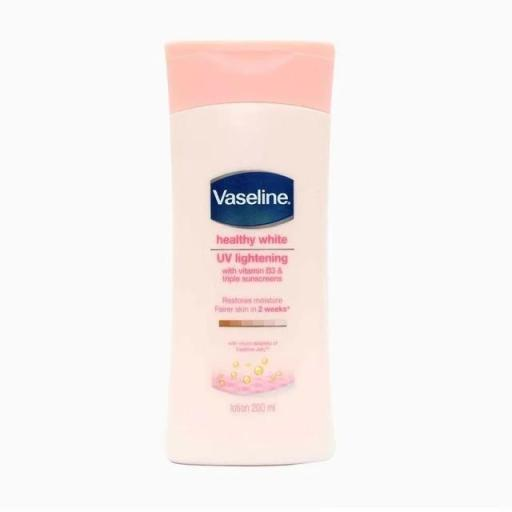plastic: (158, 32, 344, 479)
